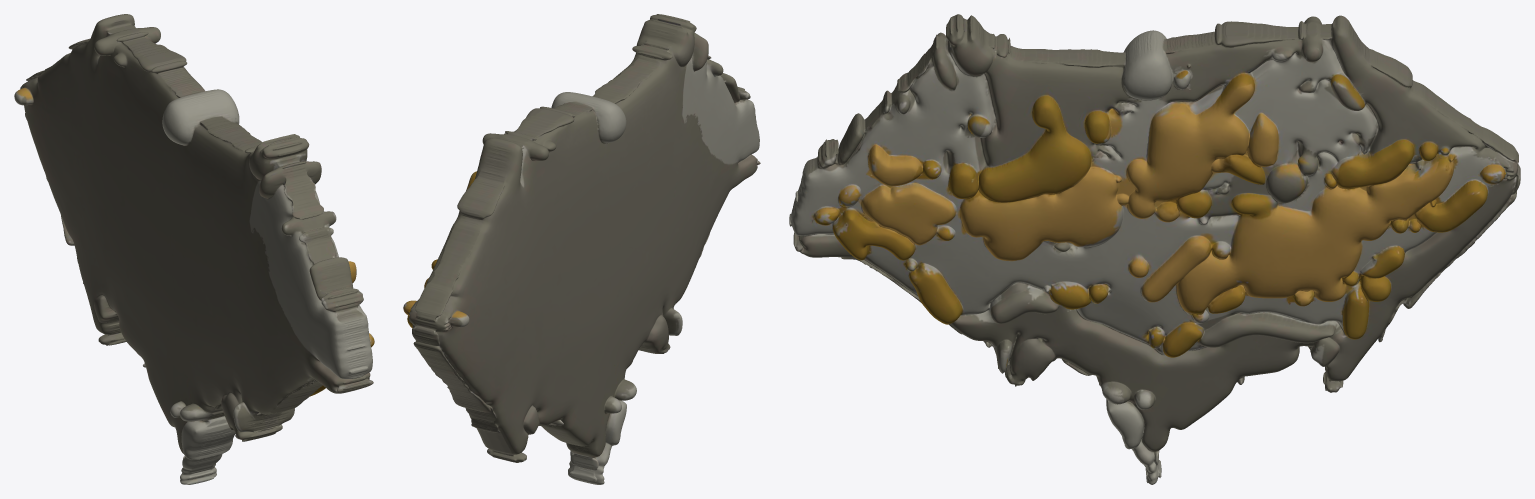
Rendered from deco_island_01.fbx.
The picture shows the model from 3 angles, left to right: view 1: azimuth 30°, elevation 25°; view 2: azimuth 150°, elevation 25°; view 3: azimuth 270°, elevation 25°; orthographic projection. The views are drawn at different scales.
Visible parts, largest first — view 1: tripo_node_1f17579a-930e-4982-8cf1-7b0d31c250b1; view 2: tripo_node_1f17579a-930e-4982-8cf1-7b0d31c250b1; view 3: tripo_node_1f17579a-930e-4982-8cf1-7b0d31c250b1.
Boxes of the visible parts, x1=… form: tripo_node_1f17579a-930e-4982-8cf1-7b0d31c250b1: x1=14, y1=14, x2=374, y2=484; tripo_node_1f17579a-930e-4982-8cf1-7b0d31c250b1: x1=403, y1=14, x2=760, y2=484; tripo_node_1f17579a-930e-4982-8cf1-7b0d31c250b1: x1=789, y1=14, x2=1520, y2=484.
Bounding box in the file's own units: 13.56 × 67.42 × 97.88.
Materials: 1 (1 with a texture image).
